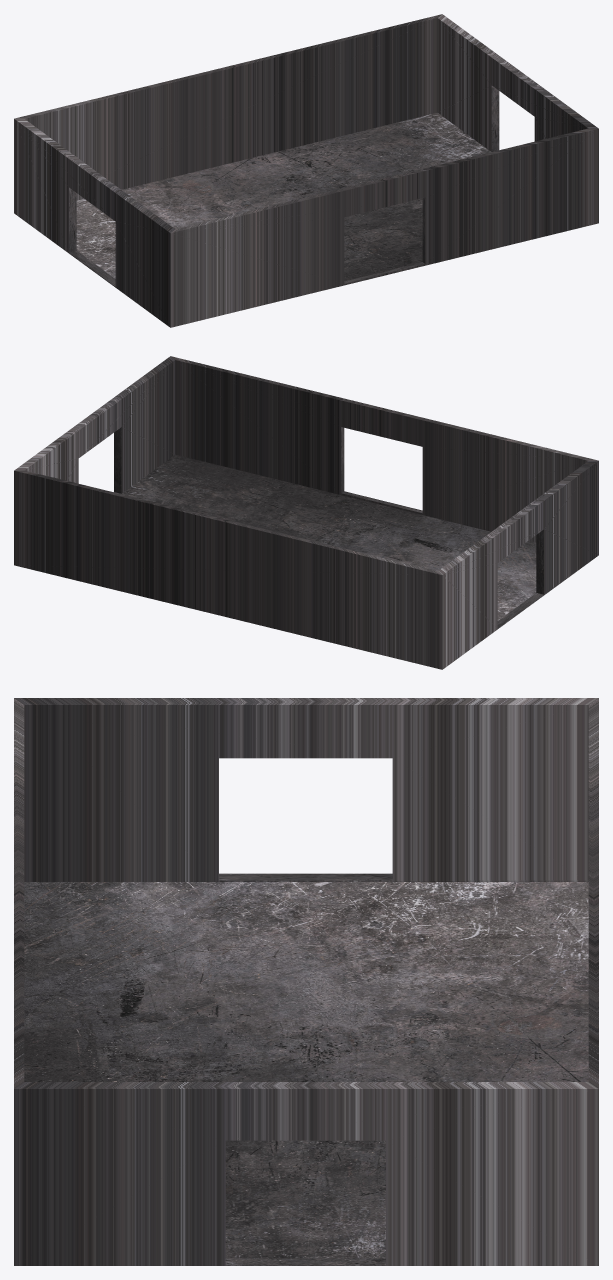
File: Room2.obj
The picture shows the model from 3 angles, top to bottom: view 1: azimuth 30°, elevation 25°; view 2: azimuth 150°, elevation 25°; view 3: azimuth 270°, elevation 25°; orthographic projection. The views are drawn at different scales.
Parts seen in each view (by area): view 1: jorge.001; view 2: jorge.001; view 3: jorge.001.
Boxes of the visible parts, x1,y1,x2,y2 form: jorge.001: (14,14,598,327); jorge.001: (14,356,598,669); jorge.001: (14,698,598,1265).
Bounding box in the file's own units: 28.35 × 5.99 × 17.94.
